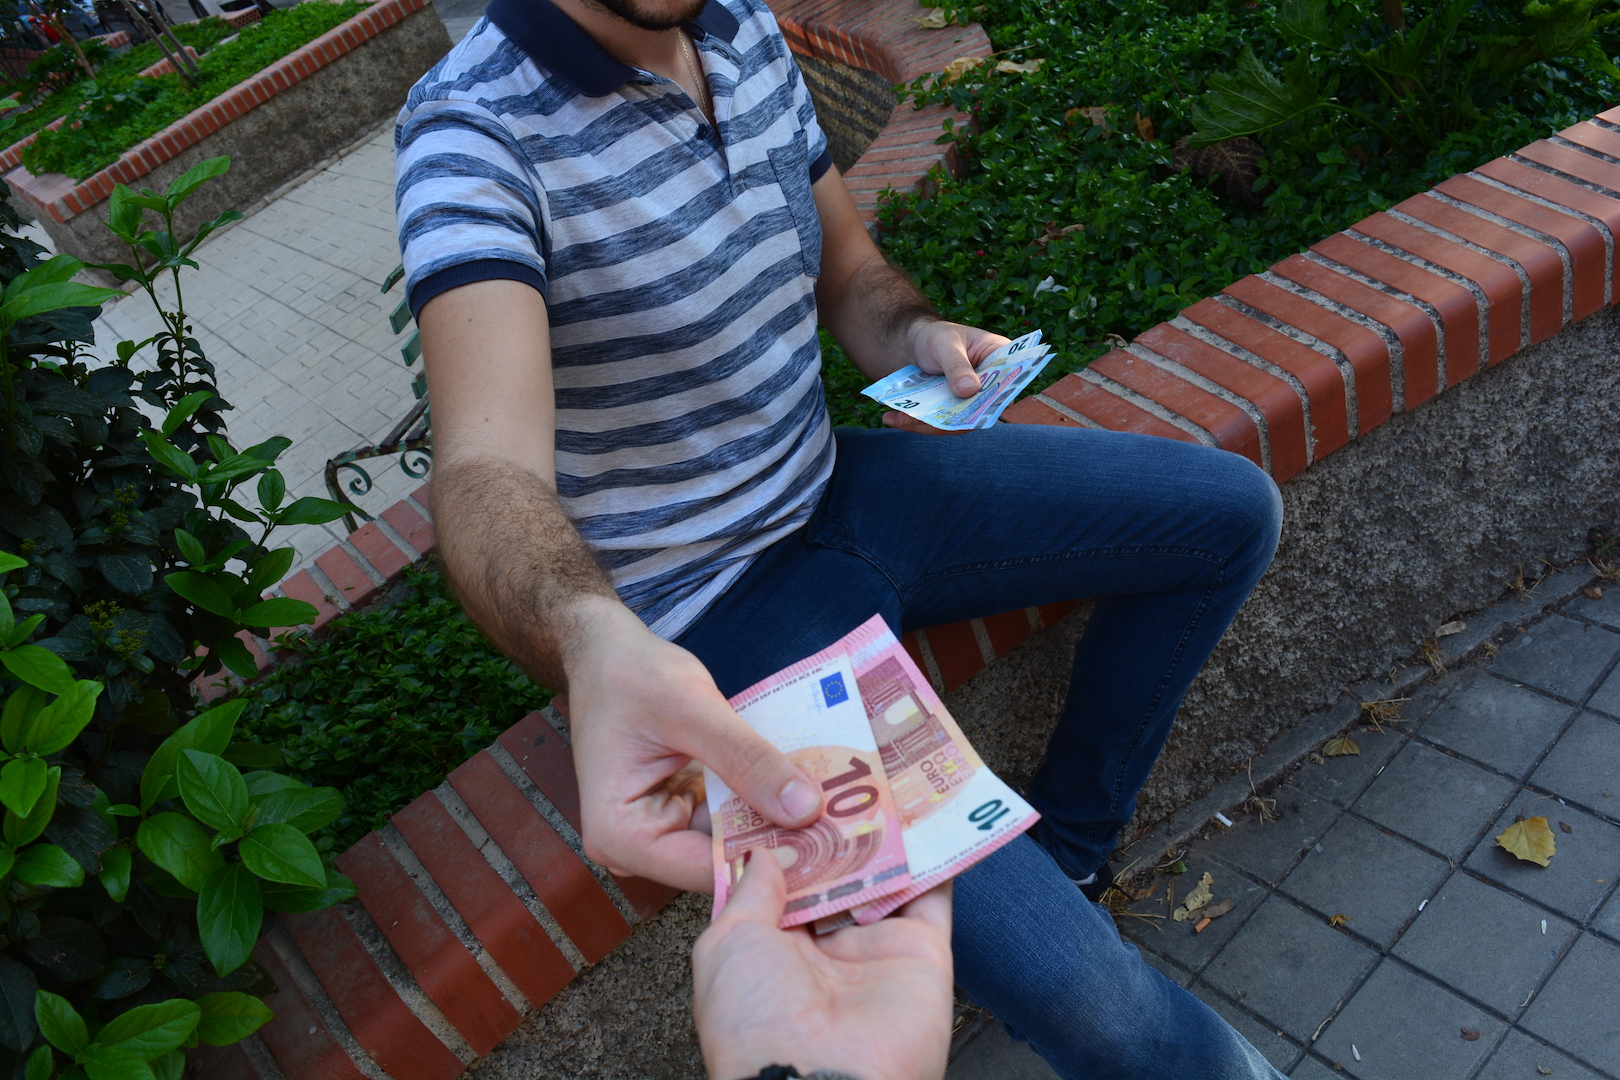billete: (700, 607, 1041, 937), (859, 327, 1060, 432)
